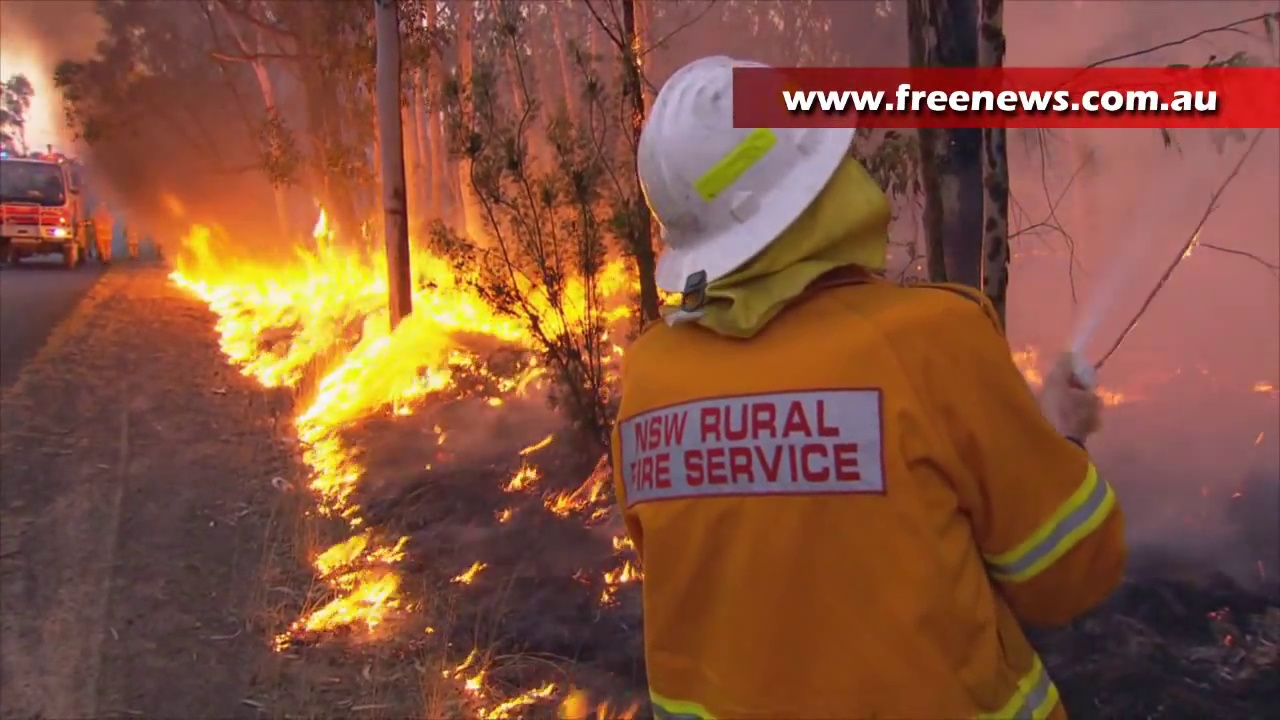fire: (173, 242, 645, 406), (280, 528, 405, 638), (507, 443, 610, 515), (294, 411, 372, 504), (453, 660, 550, 720)
